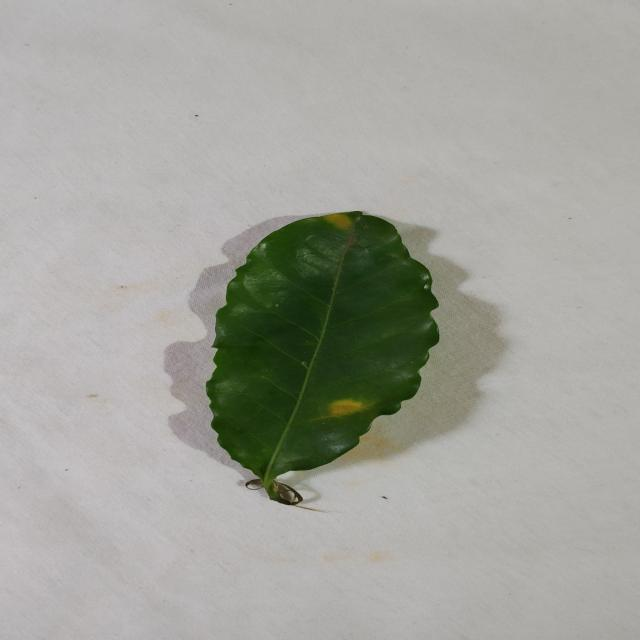Enfermedad-Roya: (204, 212, 441, 508)
